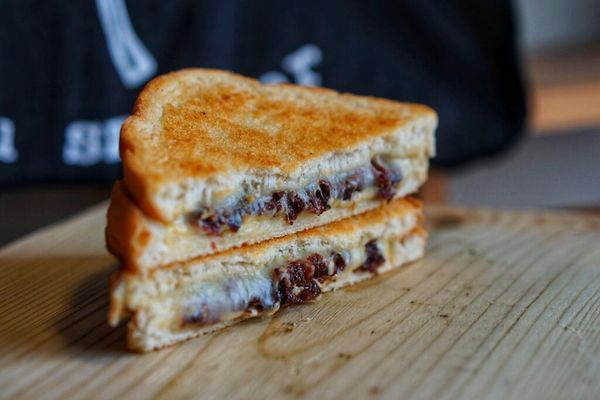soup: (103, 67, 438, 350)
